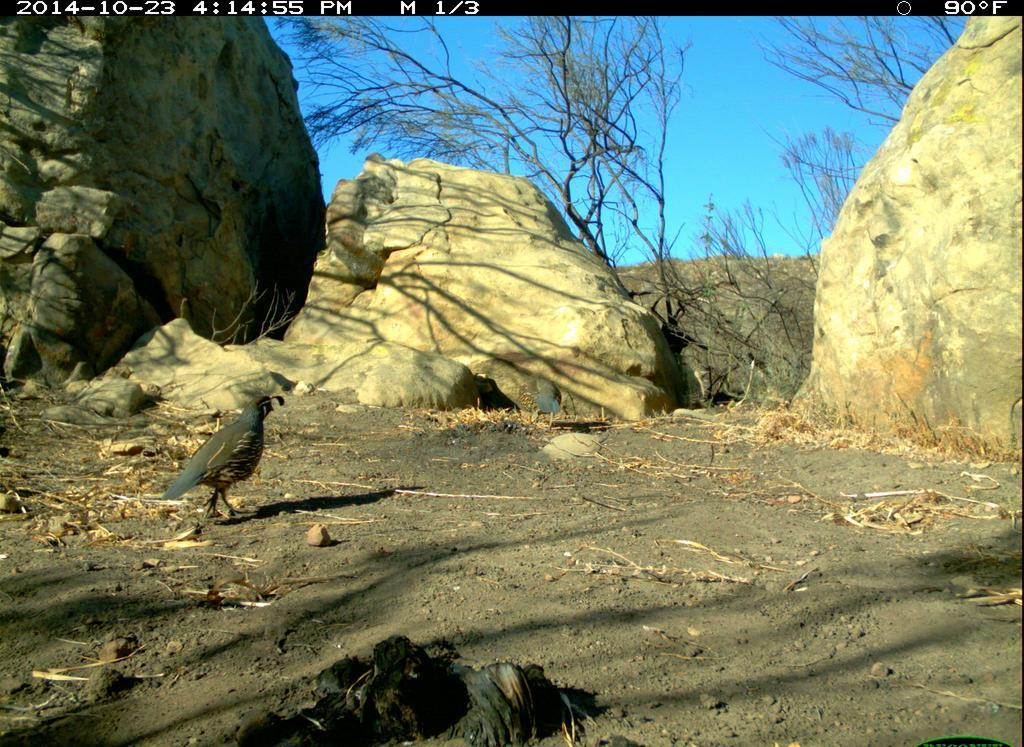bird: (152, 368, 290, 529), (518, 370, 566, 435)
